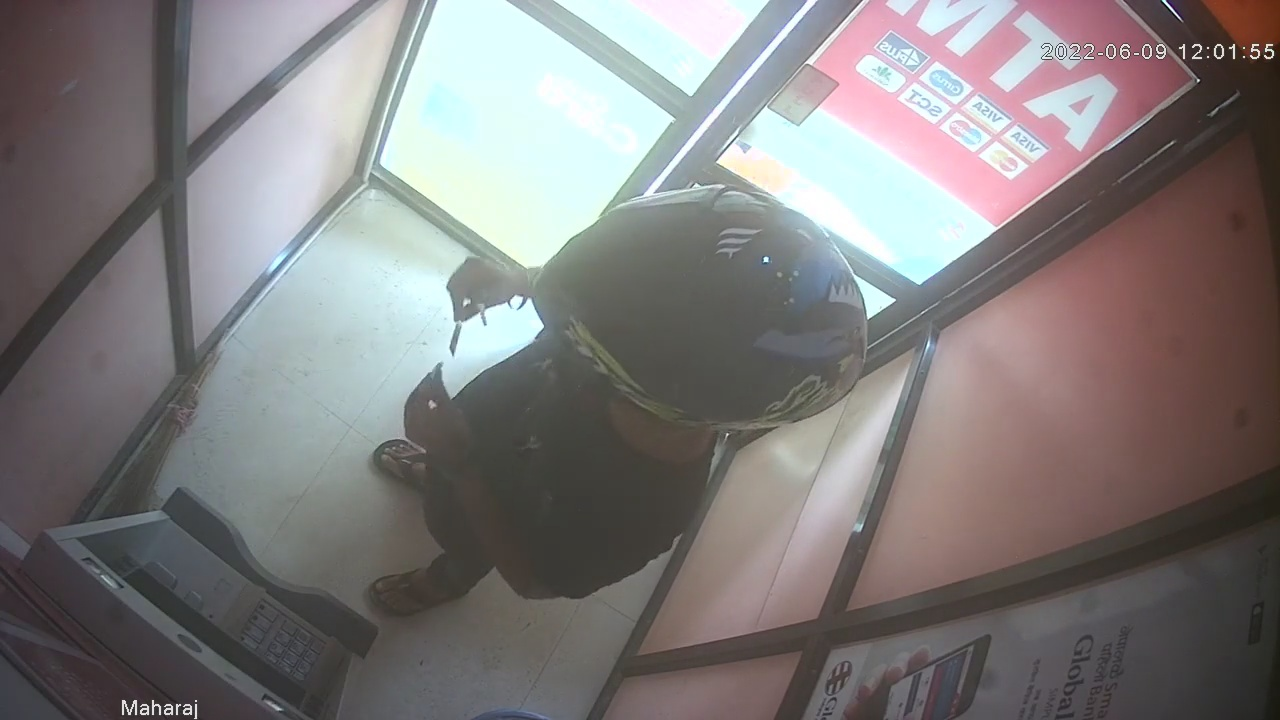helmet: (529, 184, 869, 434)
person: (367, 183, 869, 620)
